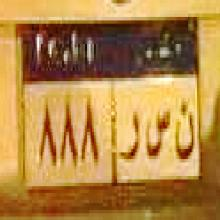8: (79, 90, 100, 172), (59, 92, 79, 174), (38, 91, 56, 172)
noon: (173, 92, 196, 168)
raa: (117, 105, 141, 167)
seen: (144, 97, 172, 166)
